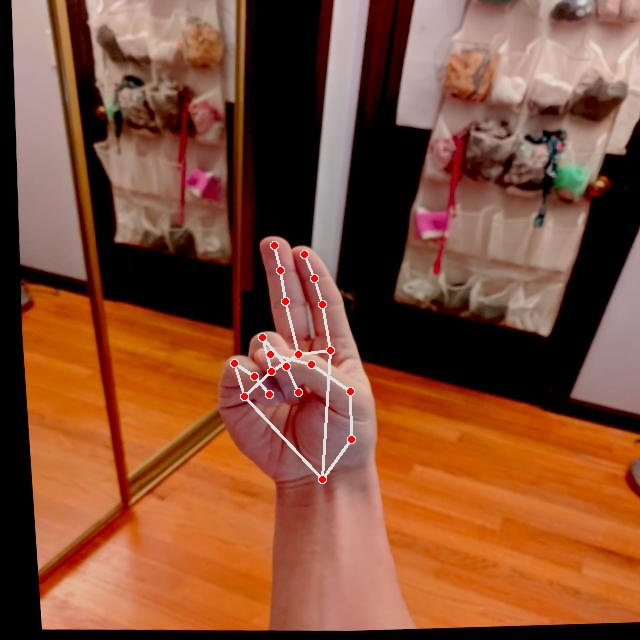U: (194, 228, 387, 495)
